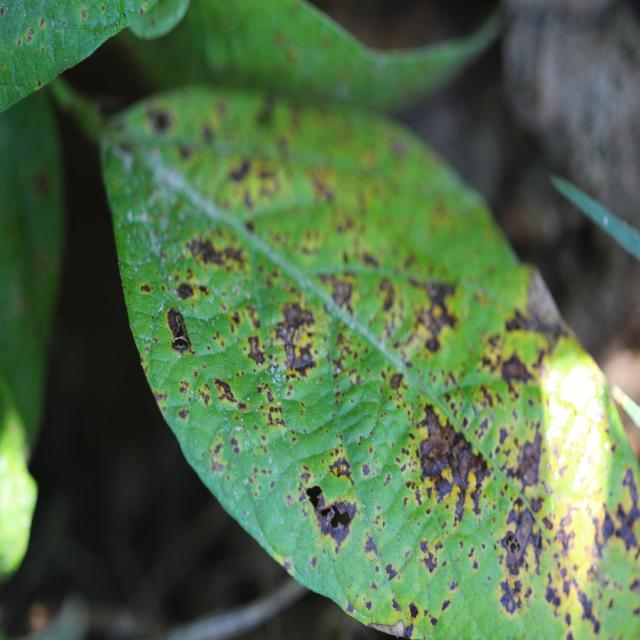Bacterial_Blight: (419, 411, 493, 510), (249, 296, 320, 377), (302, 478, 371, 554), (595, 470, 640, 559), (503, 496, 542, 571), (551, 563, 587, 624), (418, 279, 459, 332), (515, 423, 545, 487), (186, 234, 239, 270), (165, 305, 195, 355), (420, 440, 453, 480), (276, 300, 314, 334), (172, 280, 215, 305), (500, 353, 533, 383), (326, 275, 354, 309), (308, 172, 335, 204), (554, 517, 576, 555), (397, 429, 420, 465), (498, 578, 521, 614), (403, 479, 428, 508), (213, 378, 238, 405), (147, 108, 173, 133), (327, 456, 353, 481), (433, 474, 456, 502), (256, 97, 277, 127), (246, 335, 266, 366), (227, 158, 252, 182), (599, 507, 615, 543), (209, 443, 227, 474), (305, 485, 324, 510), (545, 583, 560, 609), (196, 382, 212, 406), (421, 553, 438, 574), (265, 410, 283, 428), (424, 335, 441, 353), (389, 372, 404, 391), (178, 143, 193, 161), (498, 425, 509, 446), (408, 601, 419, 619), (229, 436, 240, 454), (177, 407, 190, 422), (244, 219, 256, 234), (178, 380, 190, 395), (139, 282, 153, 294), (391, 597, 402, 612), (403, 623, 414, 638), (361, 463, 372, 477), (441, 599, 451, 612), (266, 388, 275, 402), (283, 558, 292, 572), (345, 602, 355, 614), (430, 615, 439, 627), (449, 580, 458, 591), (310, 556, 318, 568), (365, 600, 373, 611), (472, 559, 479, 571), (151, 337, 159, 345)
Soybean: (89, 83, 640, 640)
